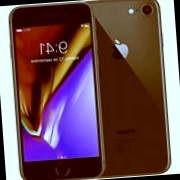iphone: (80, 2, 168, 180)
